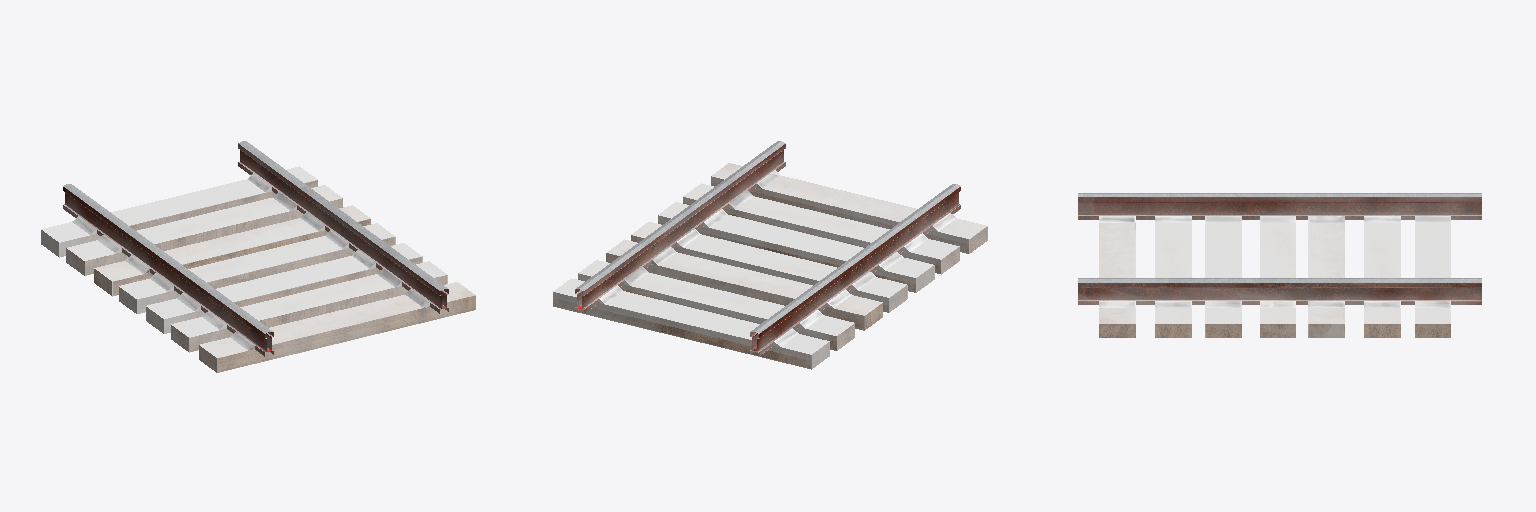
The picture shows the model from 3 angles: view 1: azimuth 30°, elevation 25°; view 2: azimuth 150°, elevation 25°; view 3: azimuth 270°, elevation 25°; orthographic projection.
Parts seen in each view (by area): view 1: Cube.002_Cube.001; view 2: Cube.002_Cube.001; view 3: Cube.002_Cube.001.
Part boxes in pixels (x1,y1,x2,y2): Cube.002_Cube.001: (41, 141, 475, 372); Cube.002_Cube.001: (553, 141, 987, 369); Cube.002_Cube.001: (1078, 193, 1481, 337).
Bounding box in the file's own units: 10.42 × 1.49 × 14.1.
Materials: 1 (1 with a texture image).